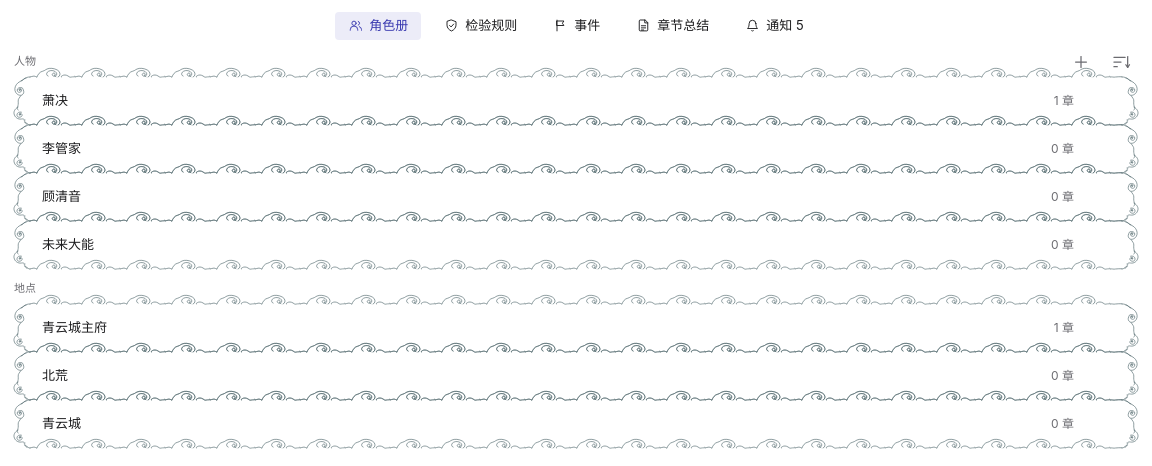
右侧信息区 › 系统规则不是空的时候，那一组照旧写出来
This screenshot has width=1152, height=466.
Click the button "检验规则": coordinates (481, 26) [431, 12, 530, 40]
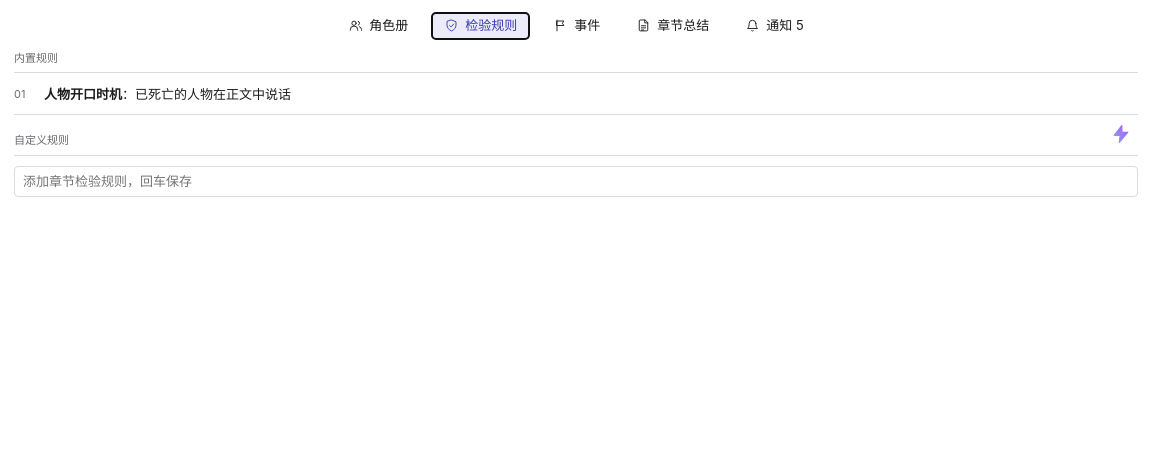
Now the text "内置规则" is shown, box [14, 50, 58, 64]
Now the text "01 人物开口时机：已死亡的人物在正文中说话" is shown, box [14, 75, 1138, 115]
